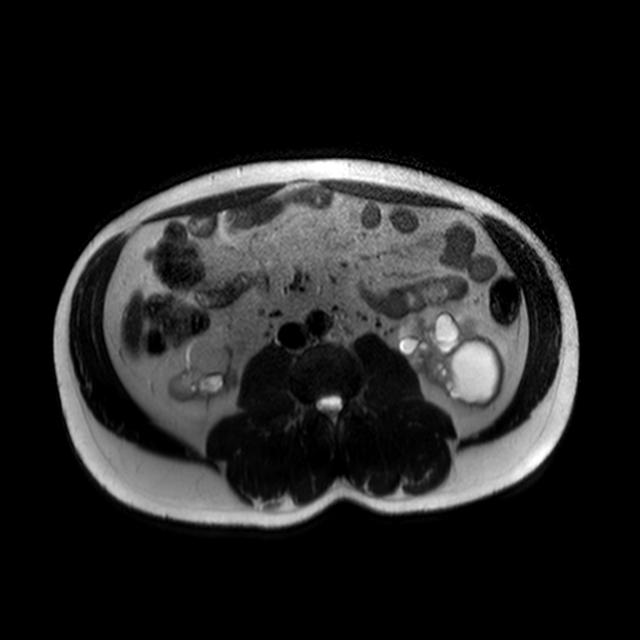sag: (168, 335, 235, 402)
sol: (396, 307, 505, 413)
